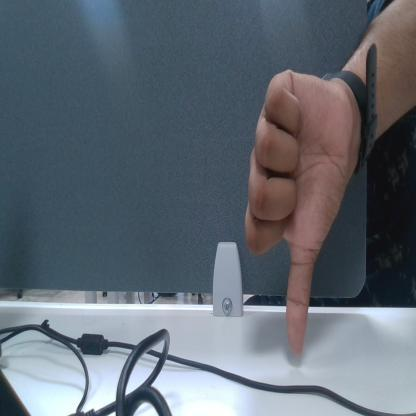Thumbs Down: (240, 60, 358, 362)
